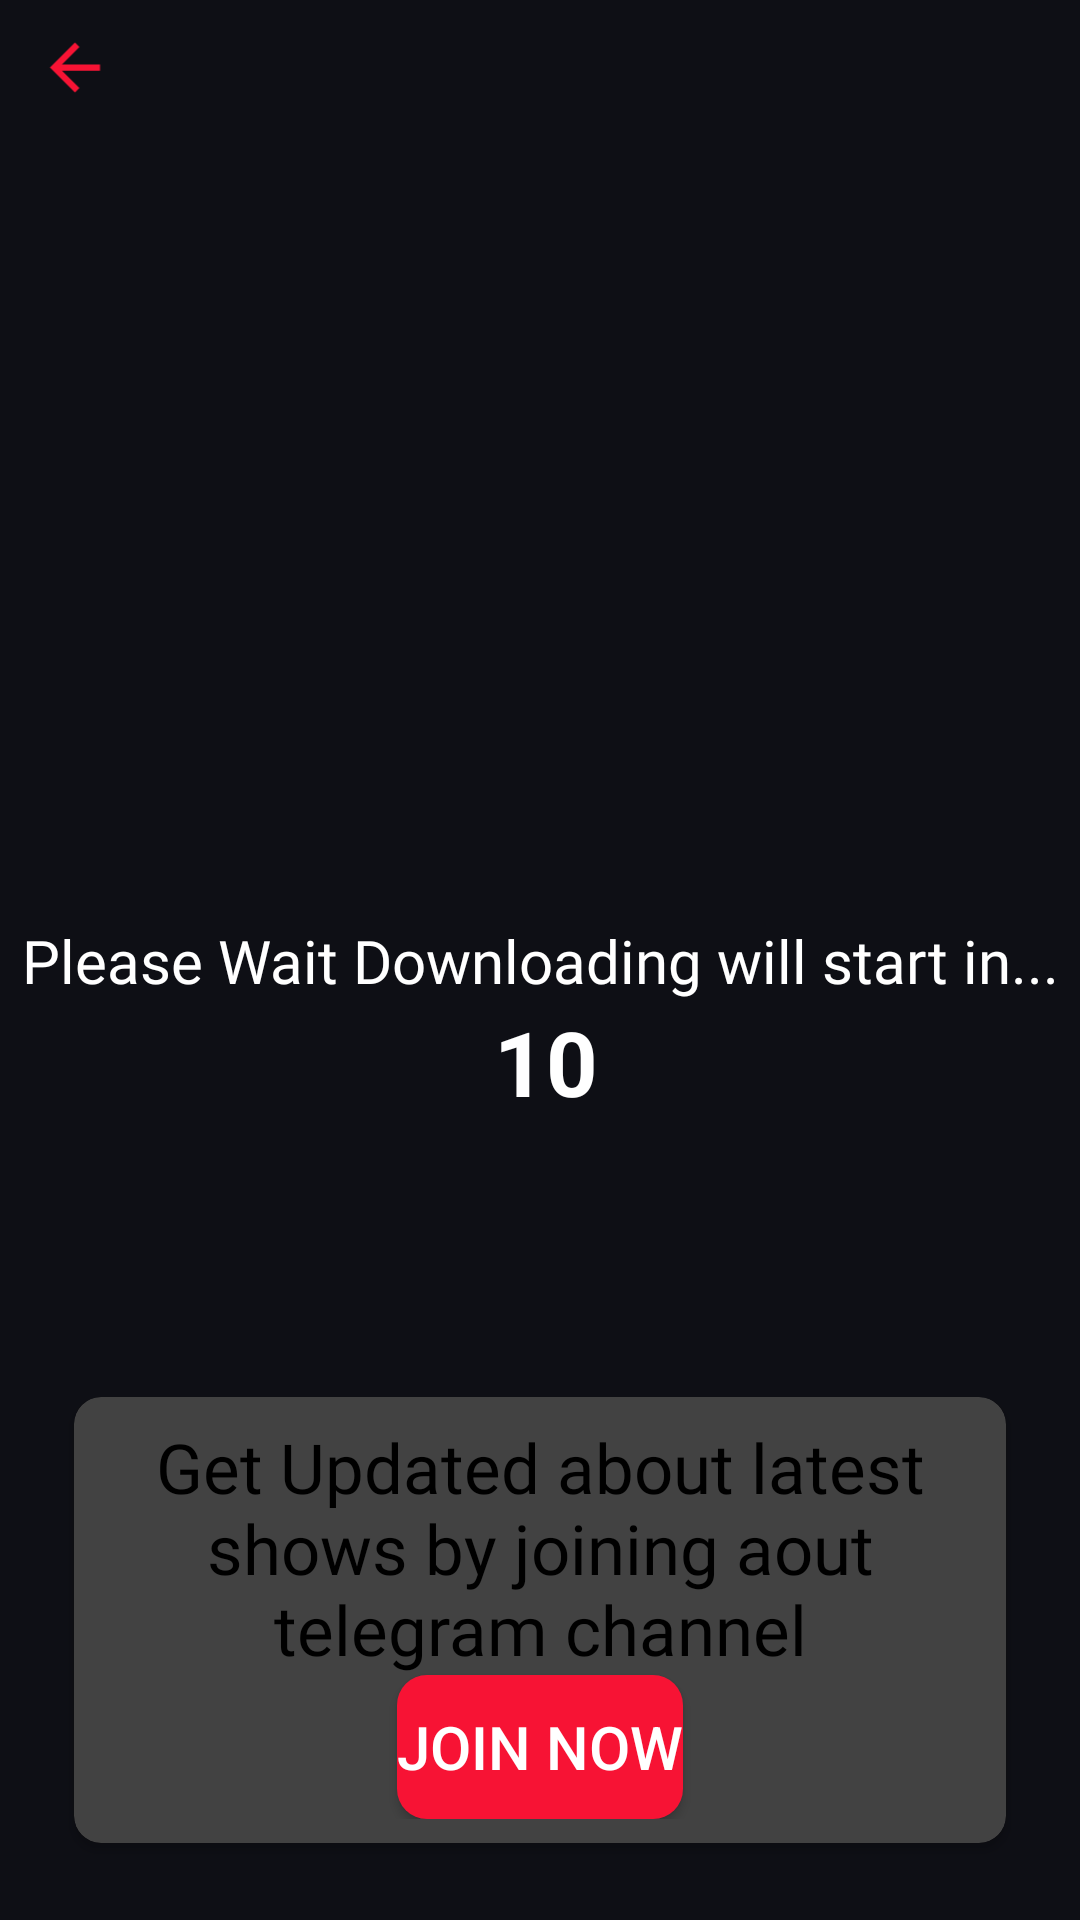

Icon bounding boxes for this 1080*1920 phone screenshot, format (x1, y1, x2, y2):
back: (49, 42, 101, 93)
